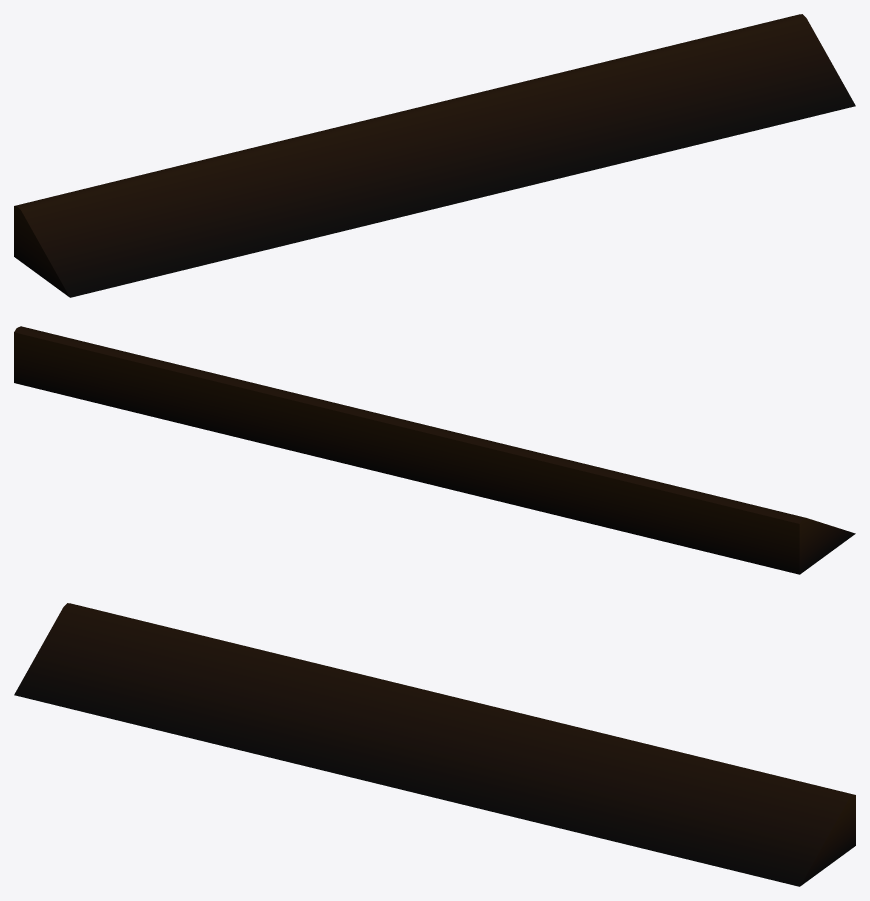
Rendered from JumpSfcgv_Prefab.fbx.
The picture shows the model from 3 angles, top to bottom: view 1: azimuth 30°, elevation 25°; view 2: azimuth 150°, elevation 25°; view 3: azimuth 330°, elevation 25°; orthographic projection.
Parts seen in each view (by area): view 1: JumpSfcgv; view 2: JumpSfcgv; view 3: JumpSfcgv.
Part boxes in pixels (left/top/right/bottom): JumpSfcgv: left=14, top=14, right=855, bottom=297; JumpSfcgv: left=14, top=326, right=855, bottom=574; JumpSfcgv: left=14, top=603, right=855, bottom=886.
Size of what is drawn, in the model's own units: 12 by 0.7722 by 1.49.
